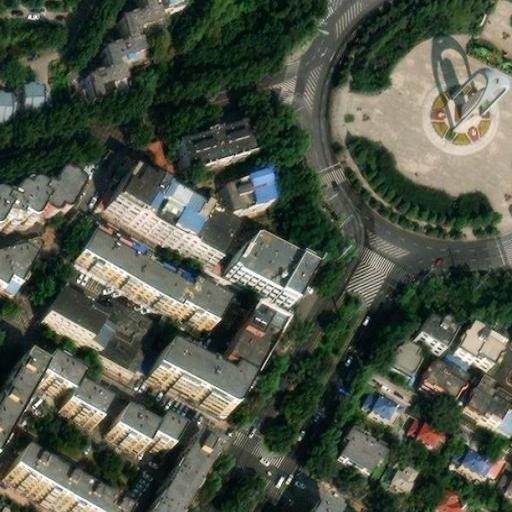building: (72, 231, 232, 329), (109, 156, 236, 254), (6, 447, 122, 512), (92, 0, 172, 93), (217, 227, 310, 305), (142, 422, 222, 512), (433, 55, 512, 136), (146, 346, 236, 416), (211, 314, 272, 390), (185, 107, 260, 159), (0, 173, 76, 223), (88, 312, 149, 366), (39, 283, 102, 335), (225, 158, 283, 205), (467, 366, 512, 421), (341, 418, 391, 467), (420, 350, 470, 397), (459, 313, 508, 359), (453, 433, 503, 478), (60, 373, 107, 414), (152, 404, 195, 442), (425, 479, 472, 512), (118, 398, 158, 435), (421, 300, 459, 338), (35, 350, 75, 385), (410, 408, 449, 442), (16, 77, 47, 116), (389, 332, 423, 367), (363, 382, 399, 415), (388, 458, 422, 488), (496, 462, 512, 491)
